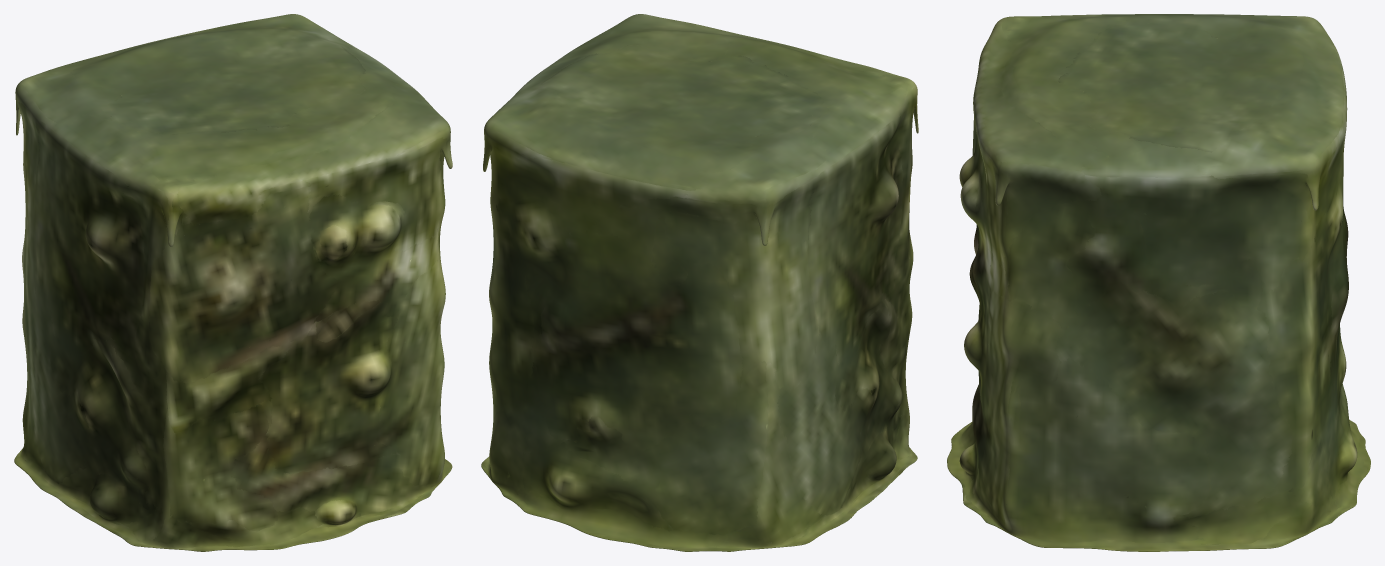
File: gelatinous_cube.glb
3 renders of one model, left to right at view 1: azimuth 30°, elevation 25°; view 2: azimuth 150°, elevation 25°; view 3: azimuth 270°, elevation 25°, orthographic. The views are drawn at different scales.
Visible parts, largest first — view 1: material; view 2: material; view 3: material.
Part boxes in pixels (<box>): material: <box>14,14,452,551</box>; material: <box>481,14,918,551</box>; material: <box>947,14,1370,551</box>.
Size of the model in its own units: 0.7869 by 0.8203 by 0.8124.
Materials: 1 (1 with a texture image).
